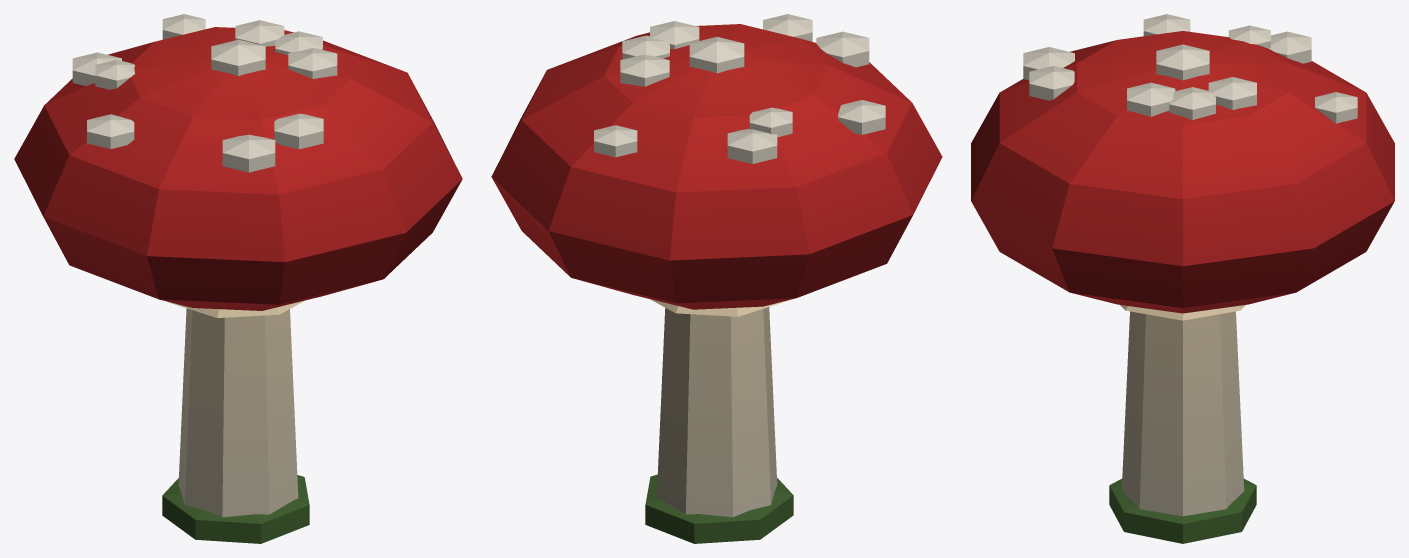
The model's file is toadstool_big.glb.
The picture shows the model from 3 angles, left to right: view 1: azimuth 30°, elevation 25°; view 2: azimuth 150°, elevation 25°; view 3: azimuth 270°, elevation 25°; orthographic projection.
Visible parts, largest first — view 1: toadstool_big; view 2: toadstool_big; view 3: toadstool_big.
Boxes of the visible parts, x1,y1,x2,y2 form: toadstool_big: (14, 14, 462, 543); toadstool_big: (491, 14, 942, 543); toadstool_big: (971, 14, 1394, 543).
Size of the model in its own units: 2.3 by 2.69 by 2.19.
